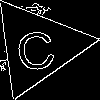C: (13, 21, 57, 72)
